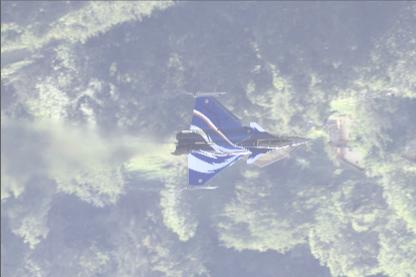RQ4: (171, 91, 314, 190)
